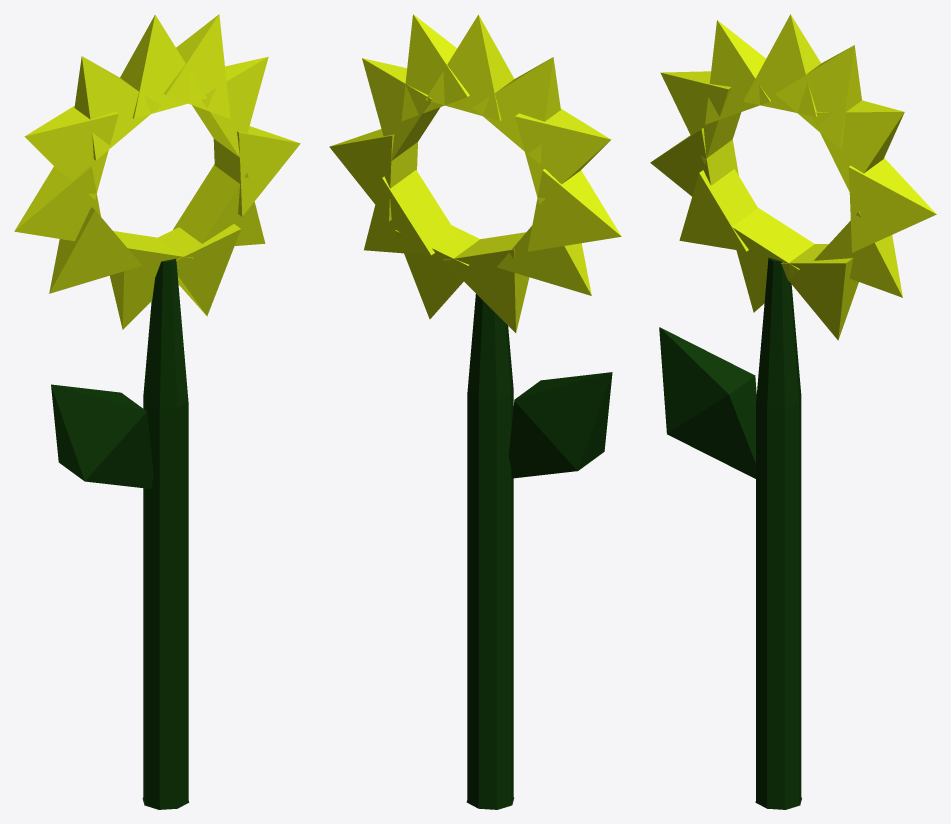
The model's file is sunflower.fbx.
The picture shows the model from 3 angles, left to right: view 1: azimuth 30°, elevation 25°; view 2: azimuth 150°, elevation 25°; view 3: azimuth 330°, elevation 25°; orthographic projection. The views are drawn at different scales.
Visible parts, largest first — view 1: varsi, Pyramid, Pyramid_4, Pyramid_18, Pyramid_8, Pyramid_6, Pyramid_9, Pyramid_11, Pyramid_2, Pyramid_16, Pyramid_22, Pyramid_20 (+2 smaller); view 2: varsi, Pyramid, Pyramid_6, Pyramid_9, Pyramid_4, Pyramid_8, Pyramid_20, Pyramid_11, Pyramid_13, Pyramid_2, Pyramid_16, Pyramid_22 (+2 smaller); view 3: varsi, Pyramid, Pyramid_11, Pyramid_1, Pyramid_18, Pyramid_16, Pyramid_22, Pyramid_20, Pyramid_13, Pyramid_8, Pyramid_4, Pyramid_2 (+2 smaller).
Boxes of the visible parts, bbox=[...] form: varsi: bbox=[142, 259, 189, 809]; Pyramid: bbox=[51, 384, 146, 480]; Pyramid_4: bbox=[24, 106, 118, 199]; Pyramid_18: bbox=[49, 207, 142, 293]; Pyramid_8: bbox=[120, 14, 206, 118]; Pyramid_6: bbox=[14, 165, 100, 241]; Pyramid_9: bbox=[173, 164, 265, 245]; Pyramid_11: bbox=[213, 126, 300, 216]; Pyramid_2: bbox=[74, 56, 160, 160]; Pyramid_16: bbox=[163, 14, 230, 118]; Pyramid_22: bbox=[158, 224, 240, 316]; Pyramid_20: bbox=[110, 231, 193, 329]; varsi: bbox=[466, 294, 514, 809]; Pyramid: bbox=[514, 372, 612, 470]; Pyramid_6: bbox=[527, 169, 621, 251]; Pyramid_9: bbox=[364, 170, 454, 255]; Pyramid_4: bbox=[515, 109, 610, 204]; Pyramid_8: bbox=[425, 14, 514, 120]; Pyramid_20: bbox=[443, 232, 529, 332]; Pyramid_11: bbox=[329, 129, 417, 221]; Pyramid_13: bbox=[362, 58, 440, 161]; Pyramid_2: bbox=[472, 57, 560, 163]; Pyramid_16: bbox=[401, 14, 469, 121]; Pyramid_22: bbox=[395, 225, 479, 319]; varsi: bbox=[755, 257, 801, 809]; Pyramid: bbox=[659, 327, 755, 433]; Pyramid_11: bbox=[848, 158, 936, 252]; Pyramid_1: bbox=[667, 376, 756, 478]; Pyramid_18: bbox=[679, 169, 757, 251]; Pyramid_16: bbox=[775, 45, 861, 149]; Pyramid_22: bbox=[780, 244, 858, 340]; Pyramid_20: bbox=[732, 208, 814, 312]; Pyramid_13: bbox=[812, 100, 904, 193]; Pyramid_8: bbox=[743, 14, 820, 116]; Pyramid_4: bbox=[660, 71, 741, 163]; Pyramid_2: bbox=[705, 20, 770, 124].
Size of the model in its own units: 44.62 by 116 by 11.04.
